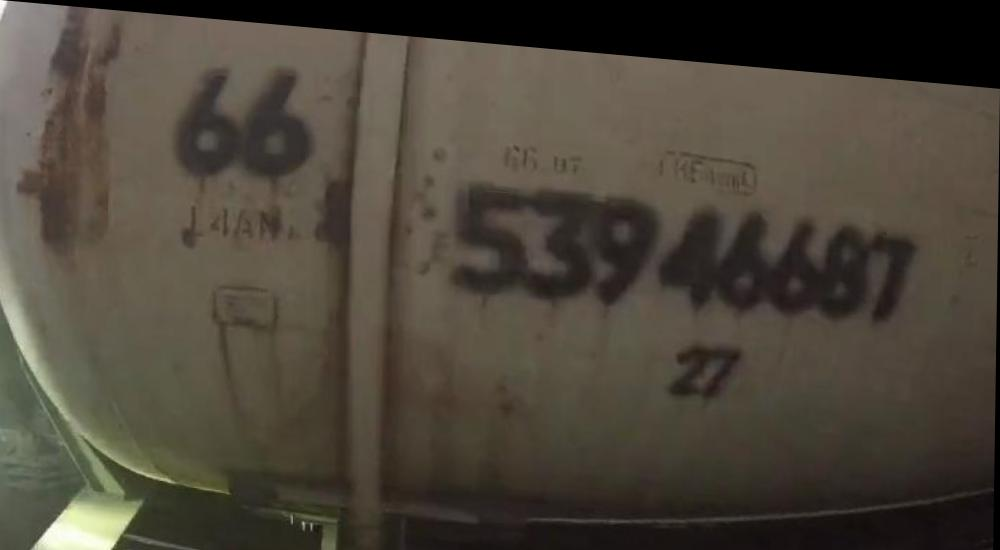Wagon-number: (448, 165, 922, 322)
